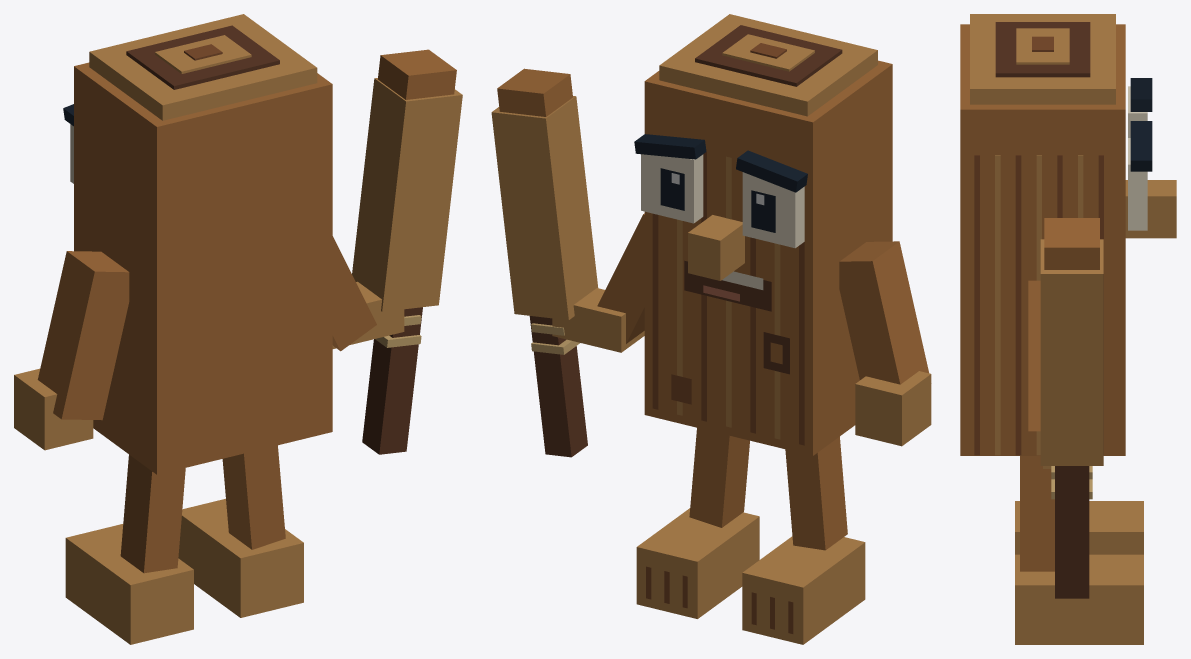
The model's file is TungTungSahur.glb.
3 renders of one model, left to right at view 1: azimuth 30°, elevation 25°; view 2: azimuth 150°, elevation 25°; view 3: azimuth 270°, elevation 25°, orthographic. The views are drawn at different scales.
Visible parts, largest first — view 1: TungTungSahur; view 2: TungTungSahur; view 3: TungTungSahur.
Boxes of the visible parts, x1,y1,x2,y2 form: TungTungSahur: [14, 14, 462, 644]; TungTungSahur: [491, 14, 931, 644]; TungTungSahur: [960, 14, 1176, 644].
Bounding box in the file's own units: 2.01 × 2.55 × 0.8946.
